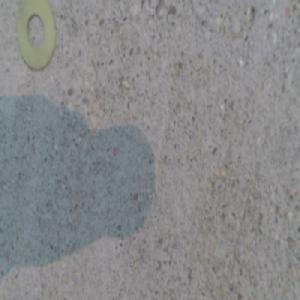Washer: (17, 0, 56, 69)
